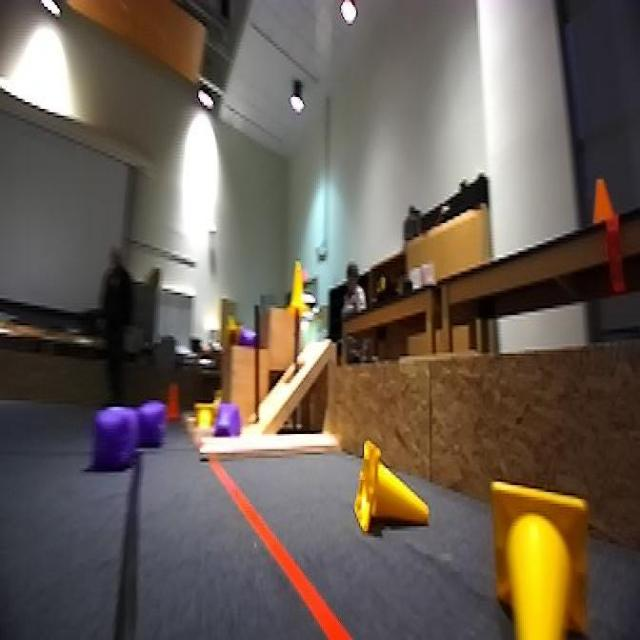frc_cone: (484, 478, 594, 640), (350, 441, 419, 543), (290, 258, 314, 328), (192, 403, 219, 432)
frc_cube: (90, 407, 138, 470), (136, 398, 168, 453), (213, 402, 238, 434), (237, 327, 259, 345)
